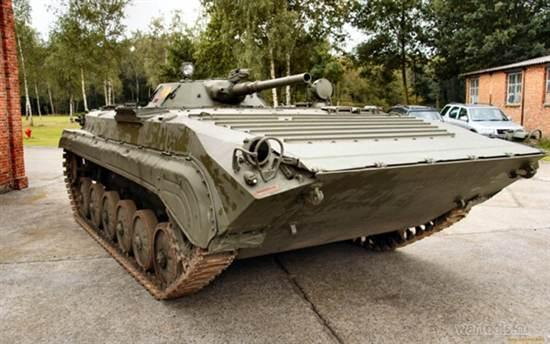tank: (28, 38, 524, 320)
